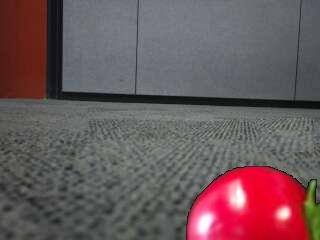Tomato: (185, 166, 320, 240)
